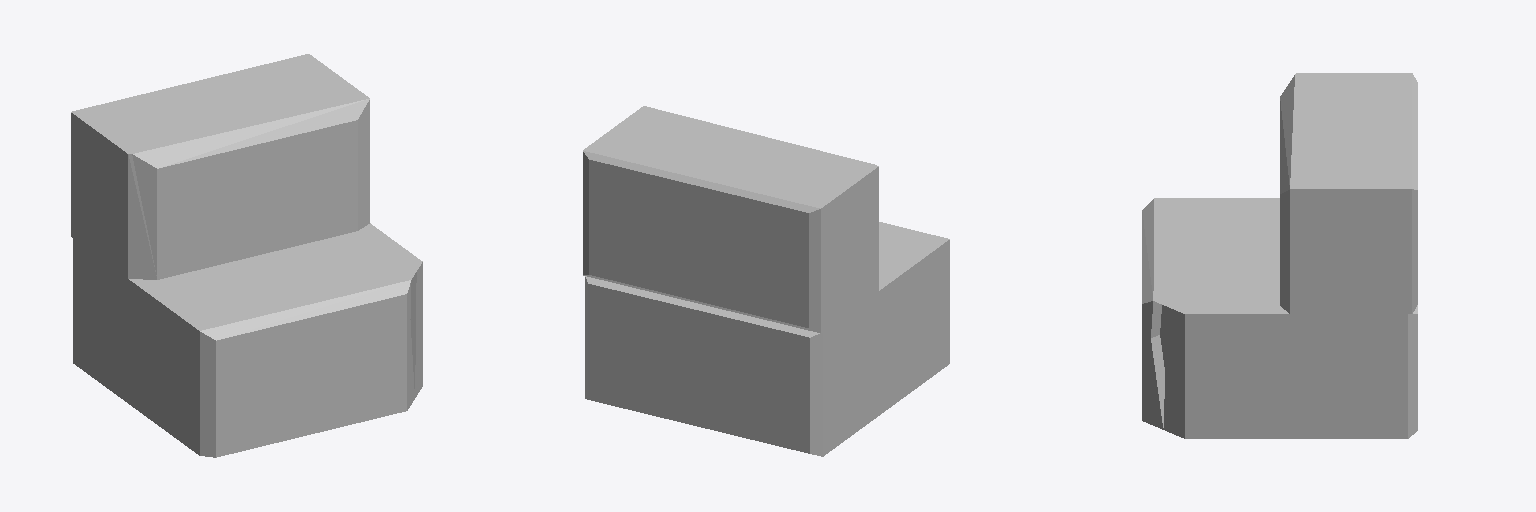
The model's file is Stairs.obj.
The picture shows the model from 3 angles: view 1: azimuth 30°, elevation 25°; view 2: azimuth 150°, elevation 25°; view 3: azimuth 270°, elevation 25°; orthographic projection.
Visible parts, largest first — view 1: Cube; view 2: Cube; view 3: Cube.
Part boxes in pixels (left/top/right/bottom): Cube: left=71, top=54, right=422, bottom=457; Cube: left=583, top=106, right=949, bottom=456; Cube: left=1142, top=73, right=1417, bottom=438.
Bounding box in the file's own units: 2 × 2 × 2.